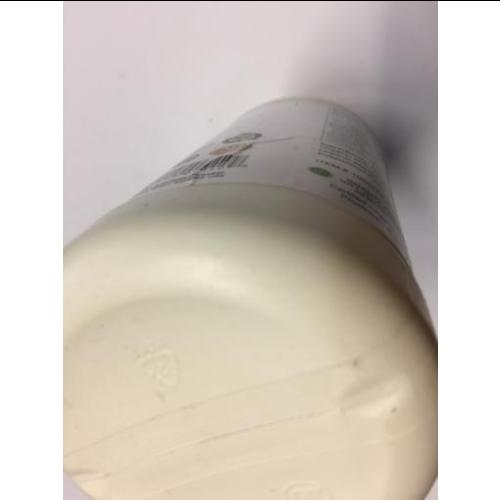plastic: (63, 101, 438, 499)
